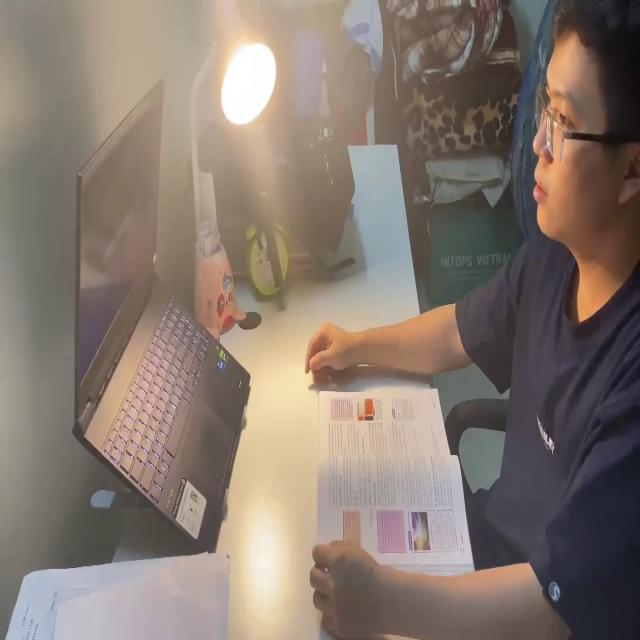book: (314, 360, 476, 595), (6, 550, 234, 640)
laptop: (68, 71, 252, 548)
student: (303, 0, 640, 640)
